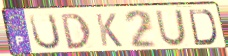2: (123, 9, 160, 50)
D: (59, 12, 93, 51), (187, 8, 219, 47)
K: (94, 12, 125, 49)
U: (27, 13, 63, 52), (154, 8, 188, 48)
